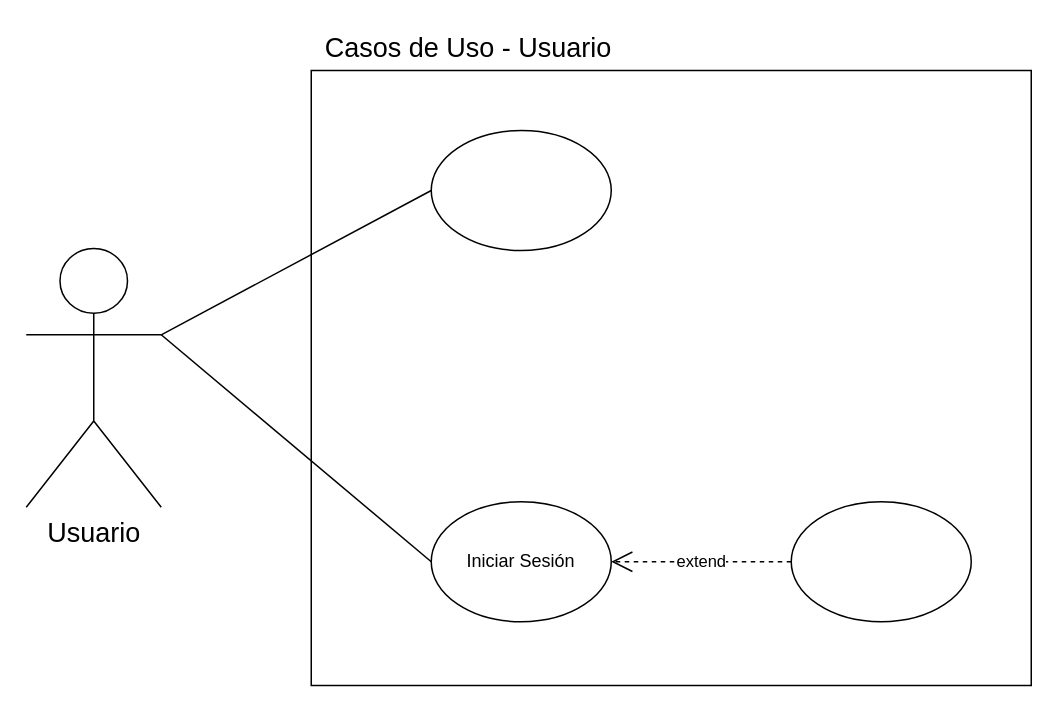
This 1058x713 diagram has some shape labels left out. The shapes that lost their labels are listed below. From the top down, each one's box as (x1, y1, x2, y2) in pixels, then its label:
(430, 129, 611, 250): Registrarse
(790, 500, 971, 622): Recuperar Contraseña
